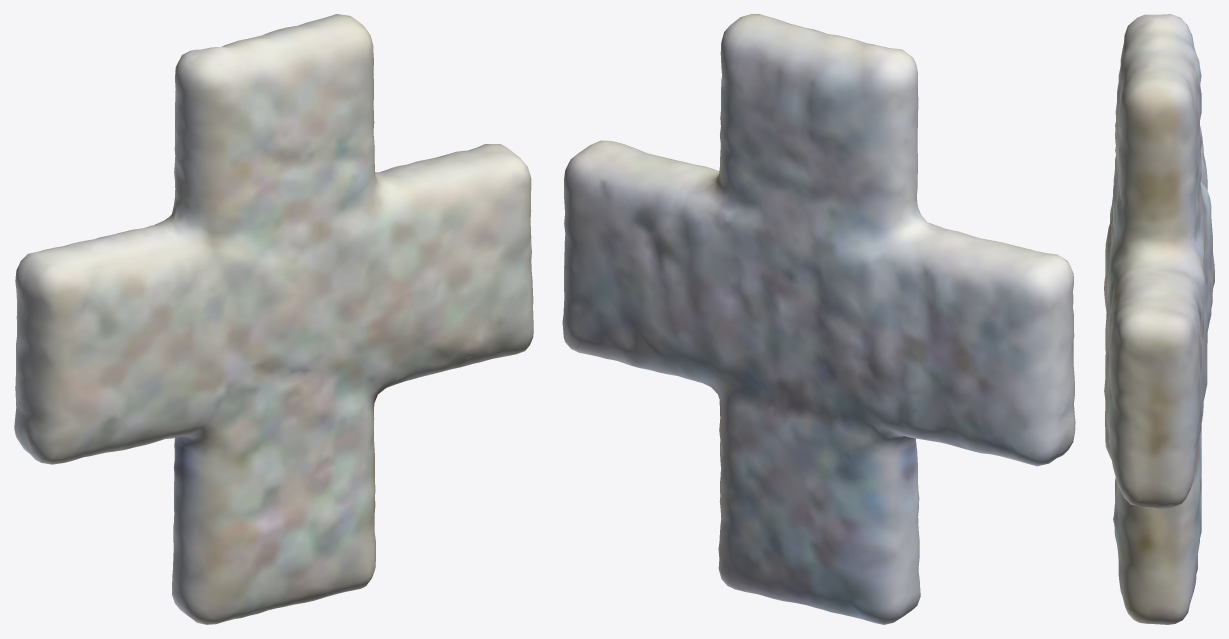
File: A_white_plus_sign_0407155301_preview.fbx
The picture shows the model from 3 angles, left to right: view 1: azimuth 30°, elevation 25°; view 2: azimuth 150°, elevation 25°; view 3: azimuth 270°, elevation 25°; orthographic projection. The views are drawn at different scales.
Parts seen in each view (by area): view 1: Mesh1; view 2: Mesh1; view 3: Mesh1.
Boxes of the visible parts, x1,y1,x2,y2 form: Mesh1: (14, 14, 533, 624); Mesh1: (562, 14, 1075, 624); Mesh1: (1104, 14, 1214, 624).
Bounding box in the file's own units: 109 × 120 × 22.11.
1 material, 1 textured.
